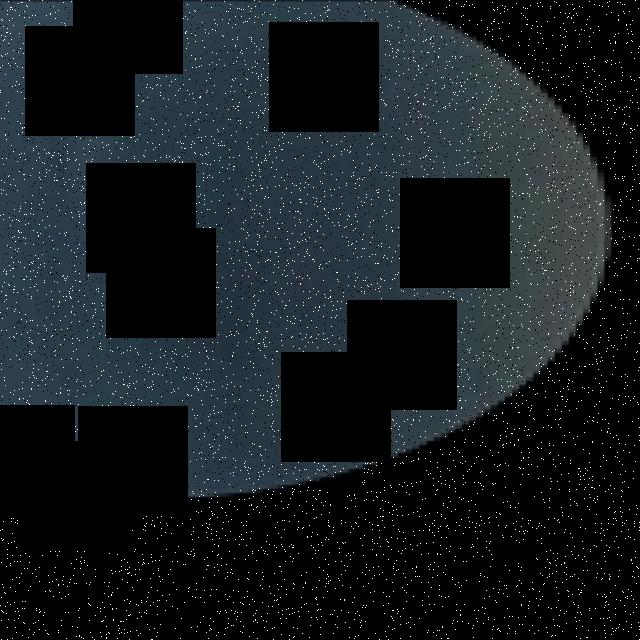Uranus: (1, 0, 618, 500)
